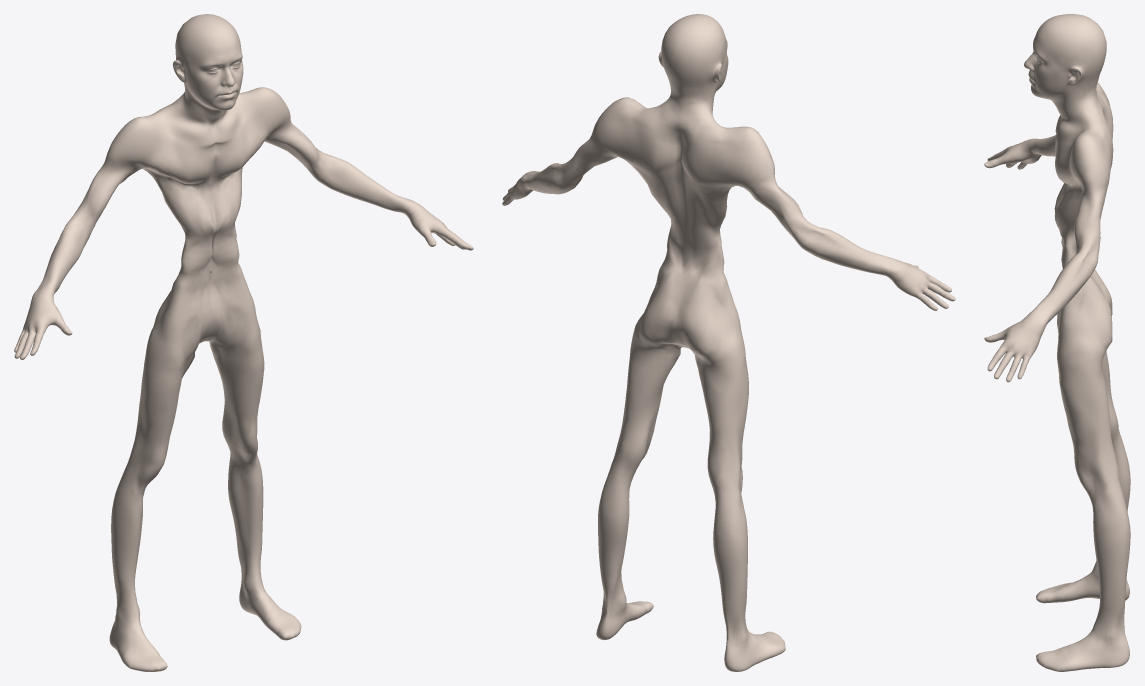
File: mhr-slim.glb
3 views of the same model, side by side, from view 1: azimuth 30°, elevation 25°; view 2: azimuth 150°, elevation 25°; view 3: azimuth 270°, elevation 25° (orthographic).
Visible parts, largest first — view 1: mhr-slim; view 2: mhr-slim; view 3: mhr-slim.
Part boxes in pixels (x1=…): mhr-slim: x1=14, y1=14, x2=473, y2=671; mhr-slim: x1=502, y1=14, x2=955, y2=671; mhr-slim: x1=984, y1=14, x2=1130, y2=671.
Size of the model in its own units: 1.32 by 1.75 by 0.3767.
